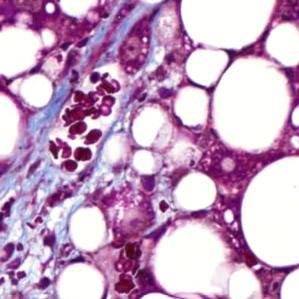steatosis: (65, 203, 112, 256), (170, 170, 222, 213), (184, 47, 229, 89)
